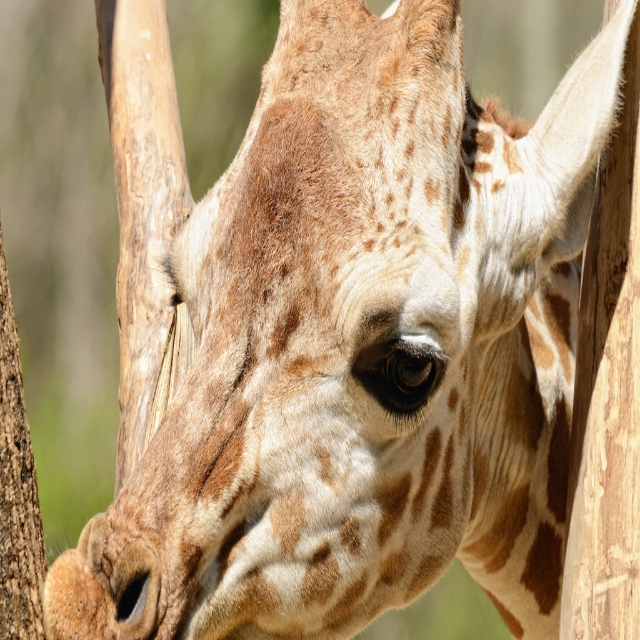Giraffe: (38, 0, 640, 639)
